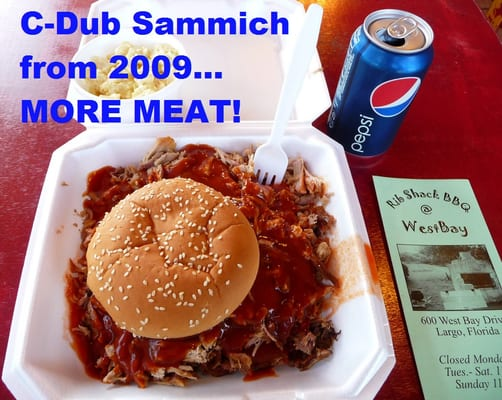salad: (252, 4, 322, 186)
